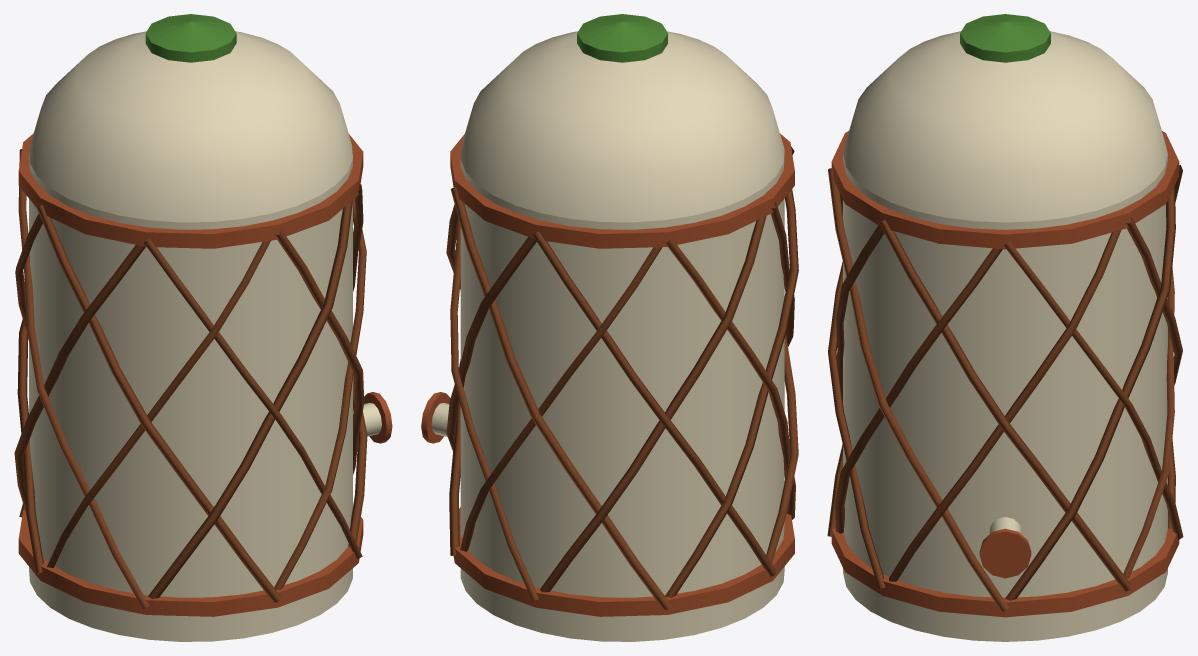
Rendered from u500_water.obj.
The picture shows the model from 3 angles, left to right: view 1: azimuth 30°, elevation 25°; view 2: azimuth 150°, elevation 25°; view 3: azimuth 270°, elevation 25°; orthographic projection.
Parts seen in each view (by area): view 1: u500_water; view 2: u500_water; view 3: u500_water.
Part boxes in pixels (x1,y1,x2,y2): u500_water: [14, 14, 392, 641]; u500_water: [421, 14, 798, 641]; u500_water: [827, 14, 1183, 641].
Bounding box in the file's own units: 2.44 × 3.75 × 2.19.
